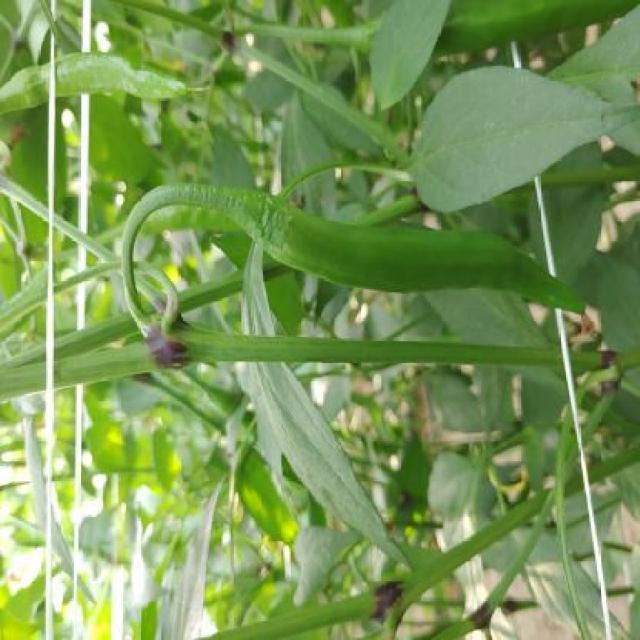green chilli: (251, 192, 595, 337)
